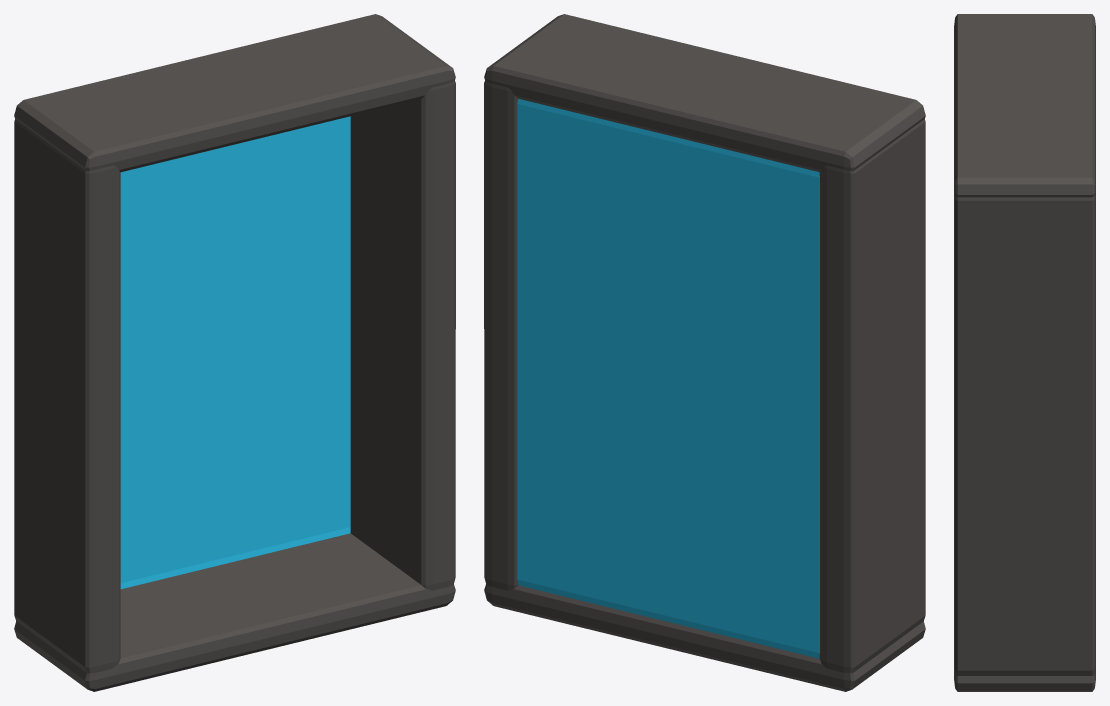
Rendered from peoplebox.fbx.
3 views of the same model, side by side, from view 1: azimuth 30°, elevation 25°; view 2: azimuth 150°, elevation 25°; view 3: azimuth 270°, elevation 25° (orthographic). The views are drawn at different scales.
Parts seen in each view (by area): view 1: Cube; view 2: Cube; view 3: Cube.
Boxes of the visible parts, <box> form: Cube: <box>14,14,455,691</box>; Cube: <box>484,14,925,691</box>; Cube: <box>954,14,1095,691</box>.
Bounding box in the file's own units: 574 × 799 × 200.
